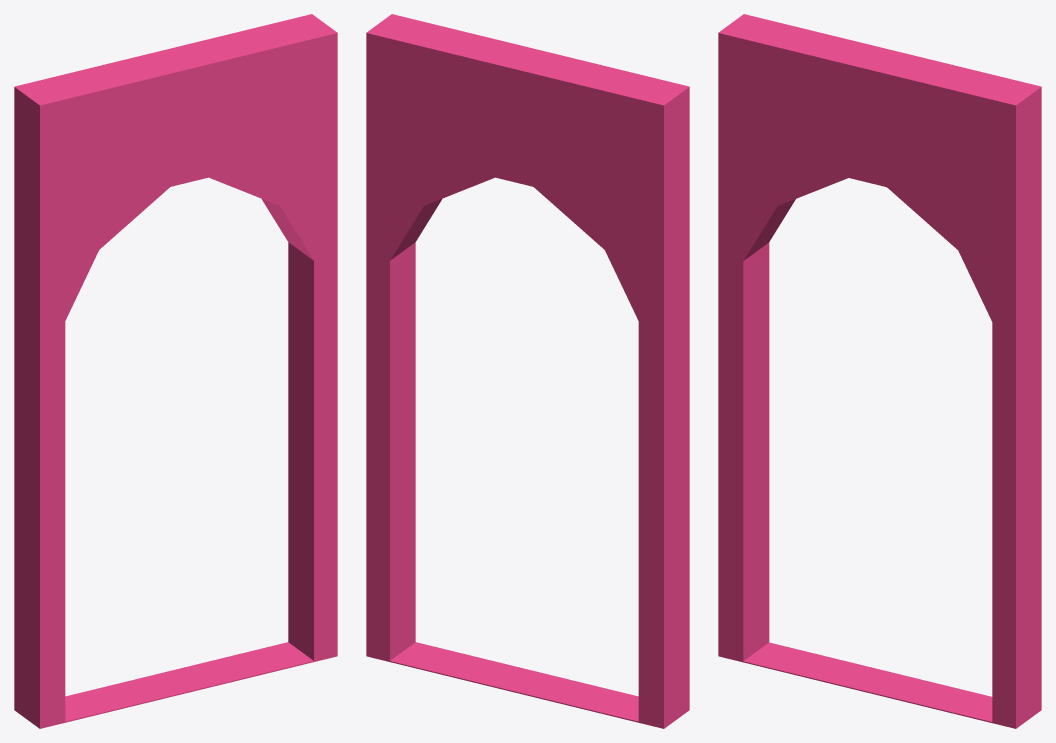
Rendered from PinkDoorframe.glb.
3 views of the same model, side by side, from view 1: azimuth 30°, elevation 25°; view 2: azimuth 150°, elevation 25°; view 3: azimuth 330°, elevation 25° (orthographic).
Parts seen in each view (by area): view 1: wall_pink_door; view 2: wall_pink_door; view 3: wall_pink_door.
Part boxes in pixels (x1,y1,x2,y2): wall_pink_door: (14,14,337,728); wall_pink_door: (366,14,689,728); wall_pink_door: (718,14,1041,728).
Size of what is drawn, in the model's own units: 2 by 4 by 0.3.
1 material, 1 textured.
